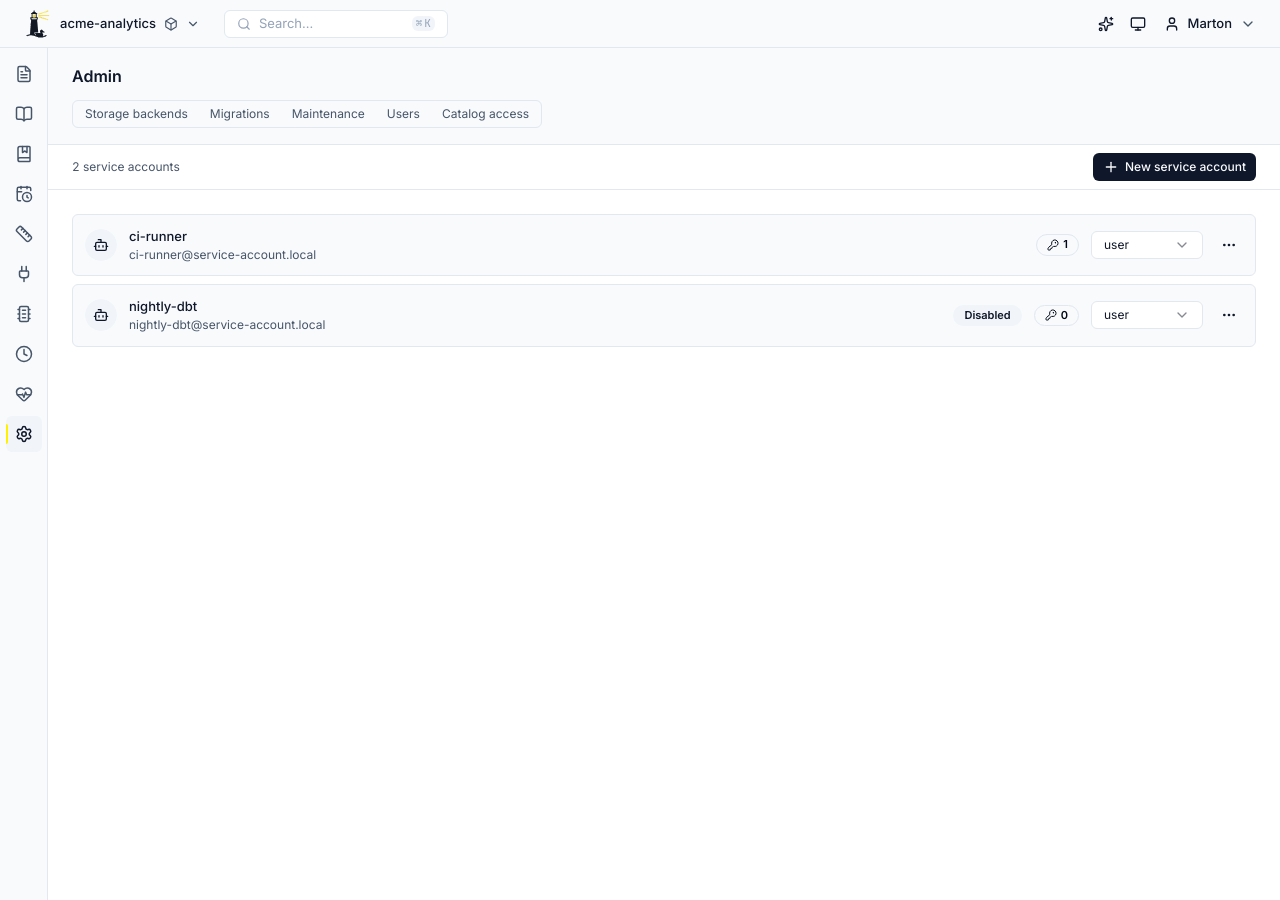
Test: ServiceAccountsPage › clears the revealed secret when the dialog is closed and reopened
Click the button named "actions for ci-runner".
click(1229, 245)  # box top-left (1215, 231), bottom-right (1243, 259)
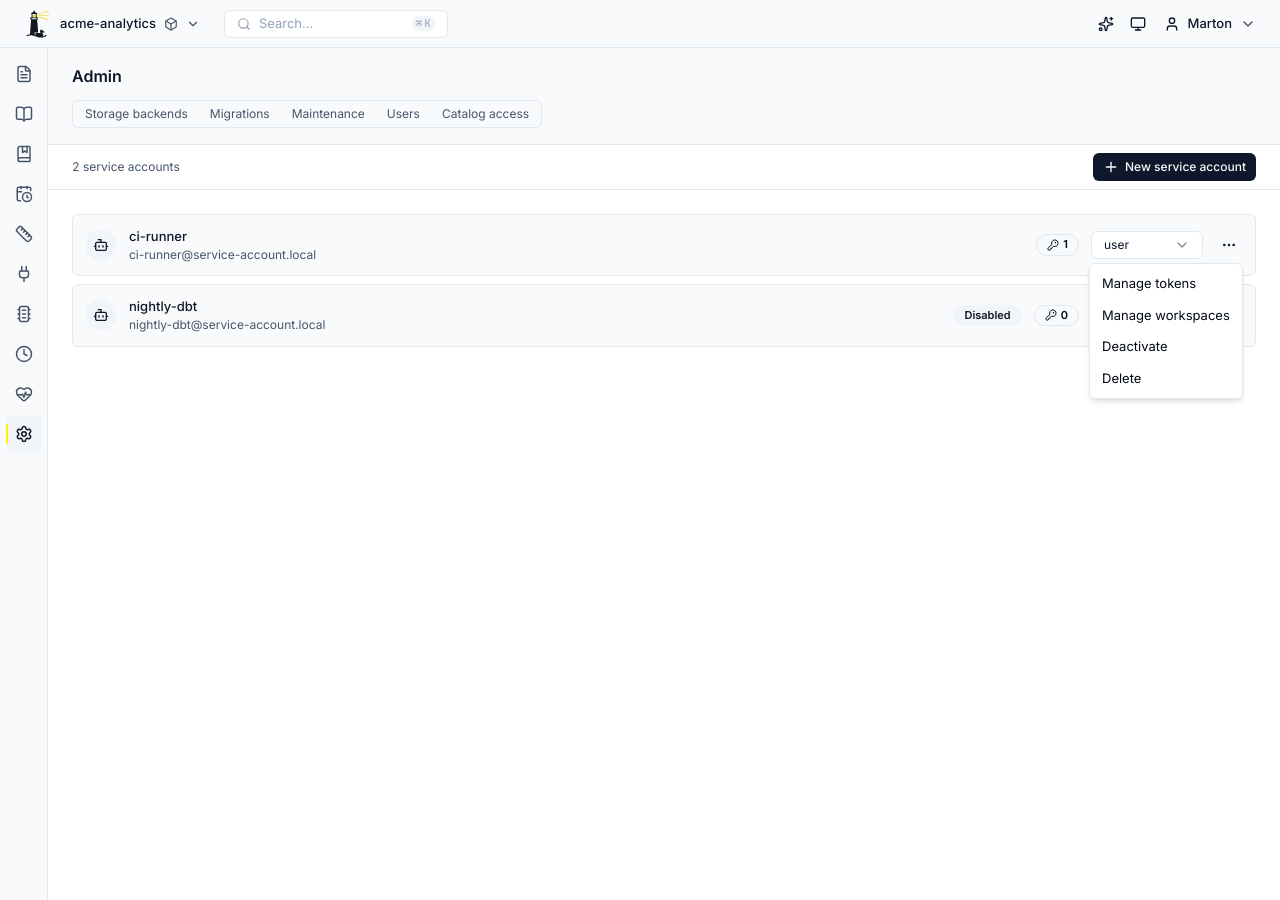
Click the menu item "Manage tokens".
click(1149, 283)  # box top-left (1102, 275), bottom-right (1196, 291)
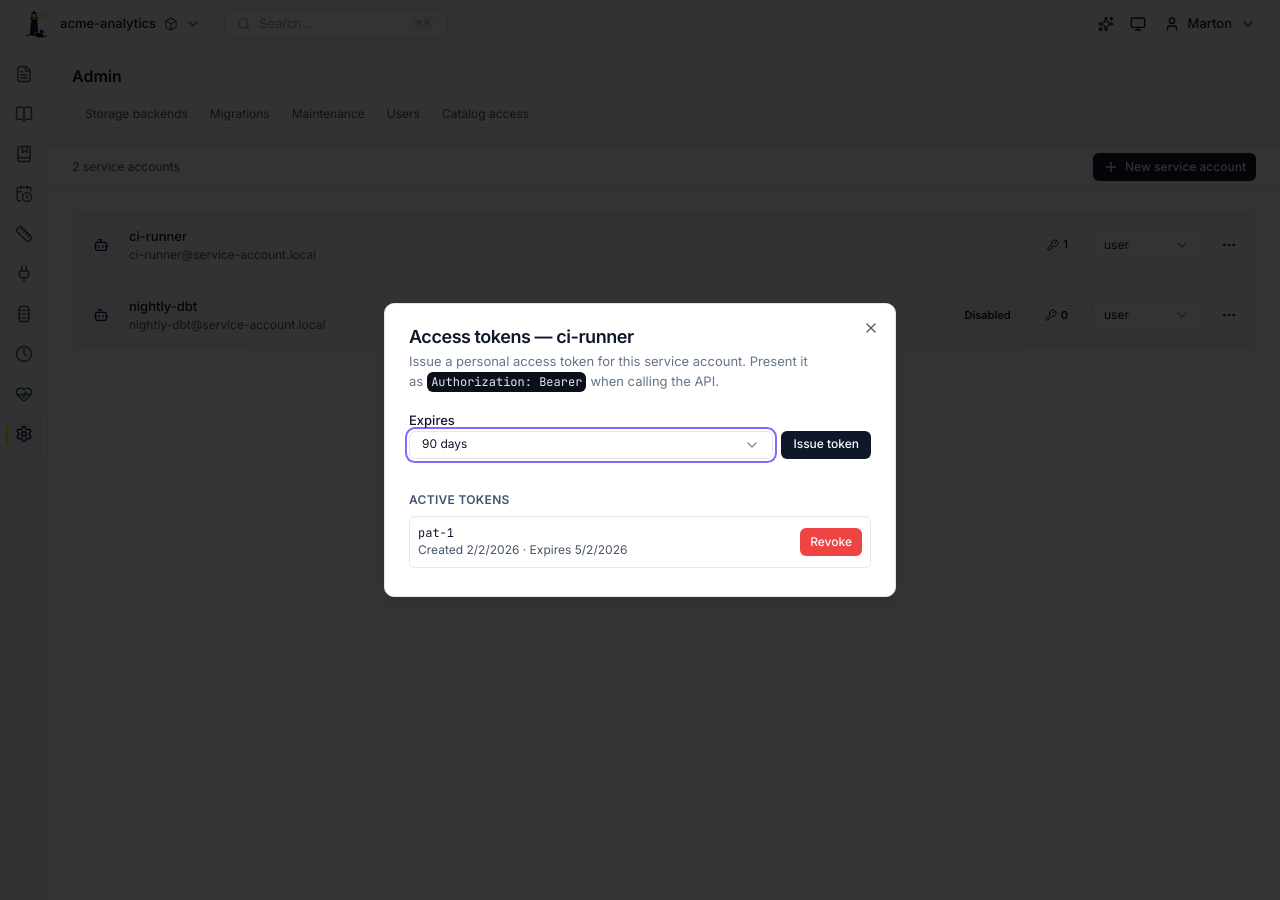
Click the button "Issue token".
click(826, 445)  # box top-left (781, 431), bottom-right (871, 459)
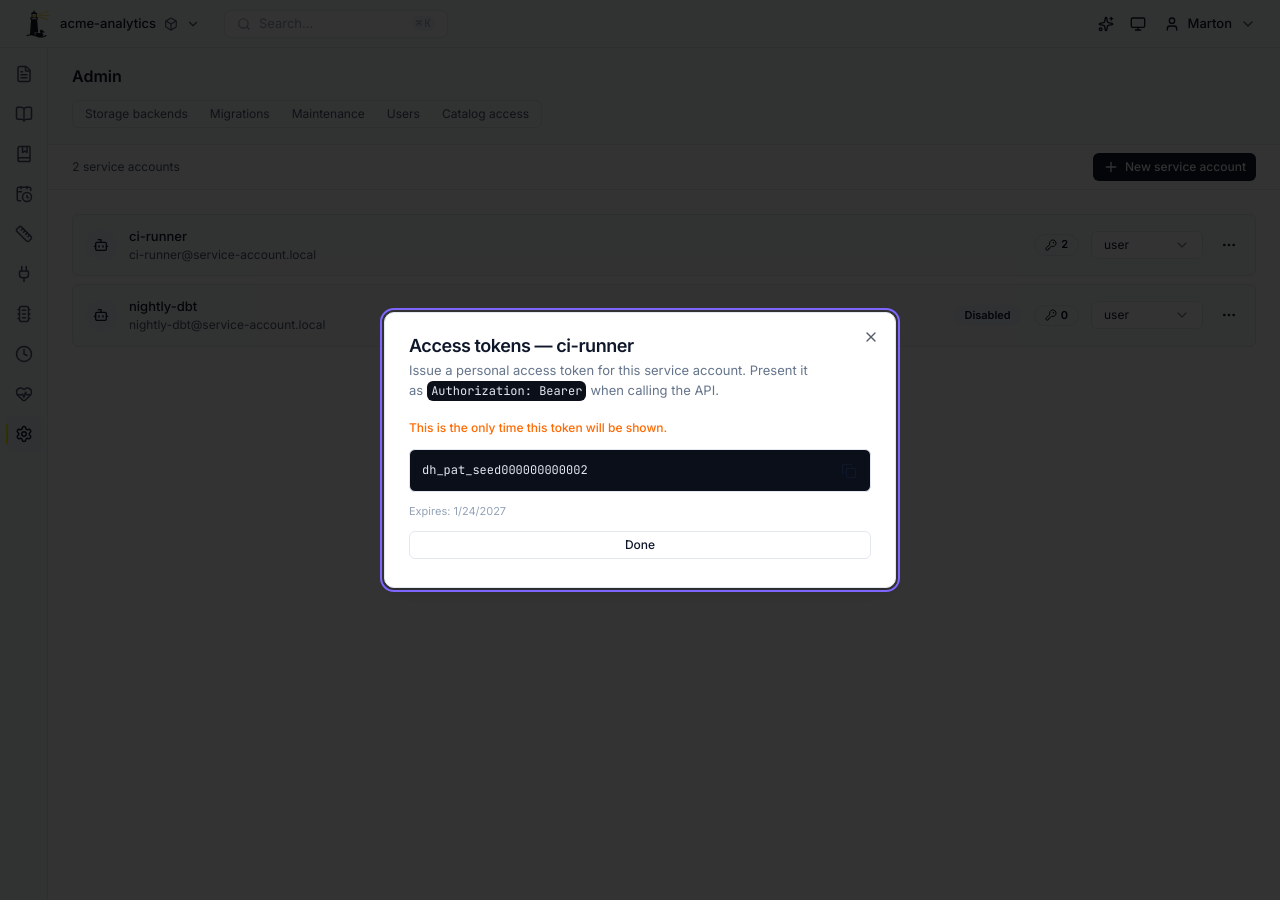
Expected: the text "dh_pat_seed000000000002" is shown, top-left (409, 449), bottom-right (871, 492)
Click the button "Done".
click(640, 545)  # box top-left (409, 531), bottom-right (871, 559)
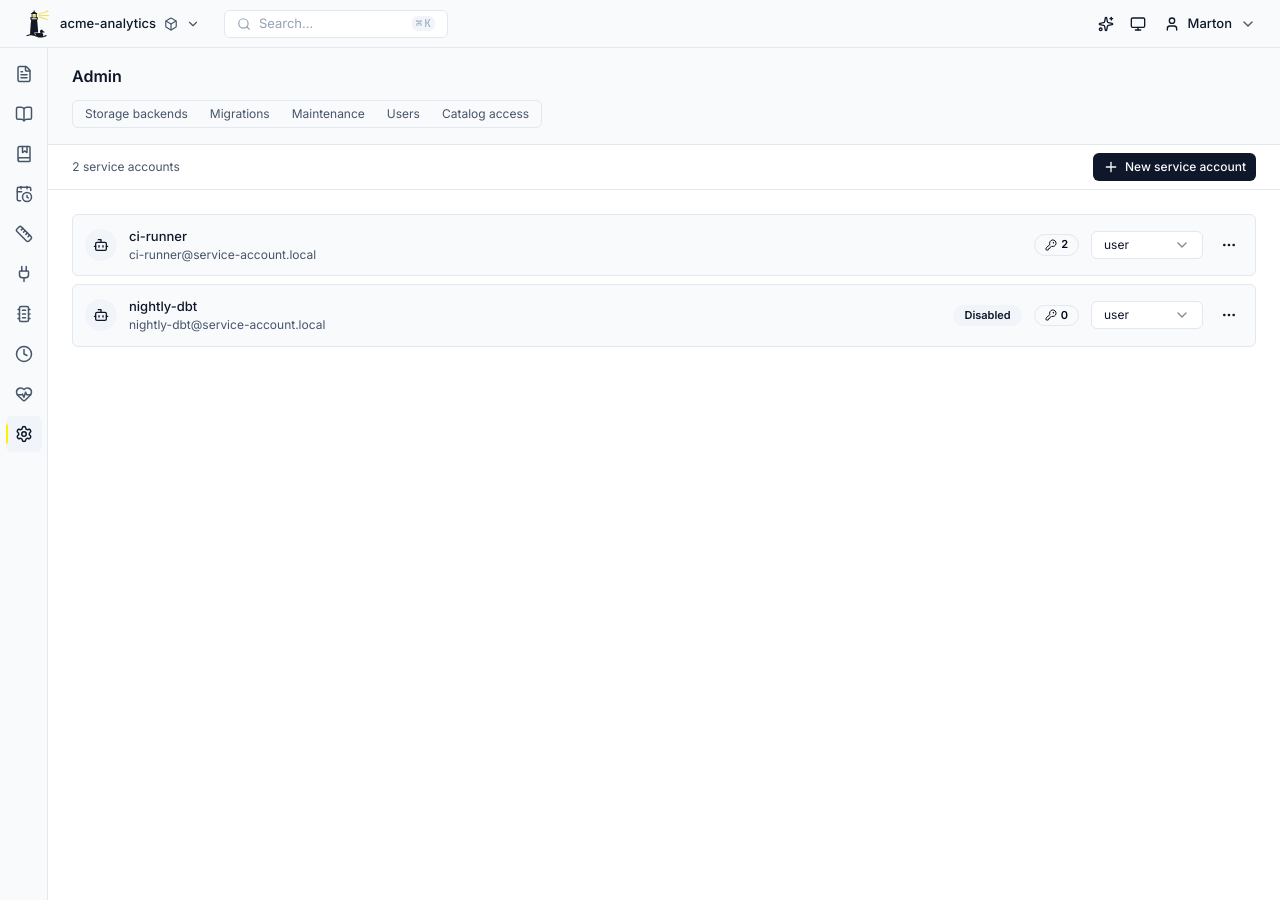
Click the button named "actions for ci-runner".
click(1229, 245)  # box top-left (1215, 231), bottom-right (1243, 259)
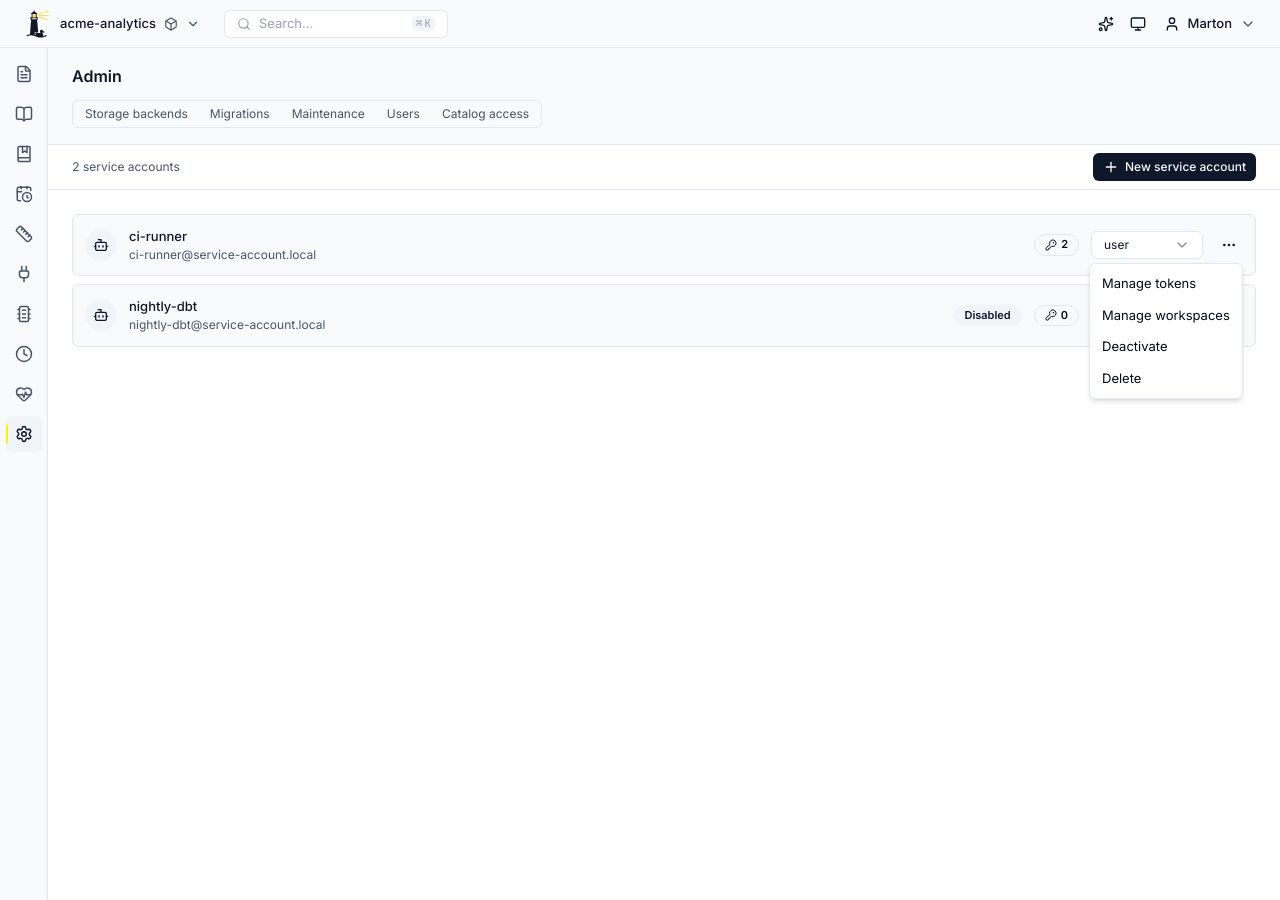
Click the menu item "Manage tokens".
click(1149, 283)  # box top-left (1102, 275), bottom-right (1196, 291)
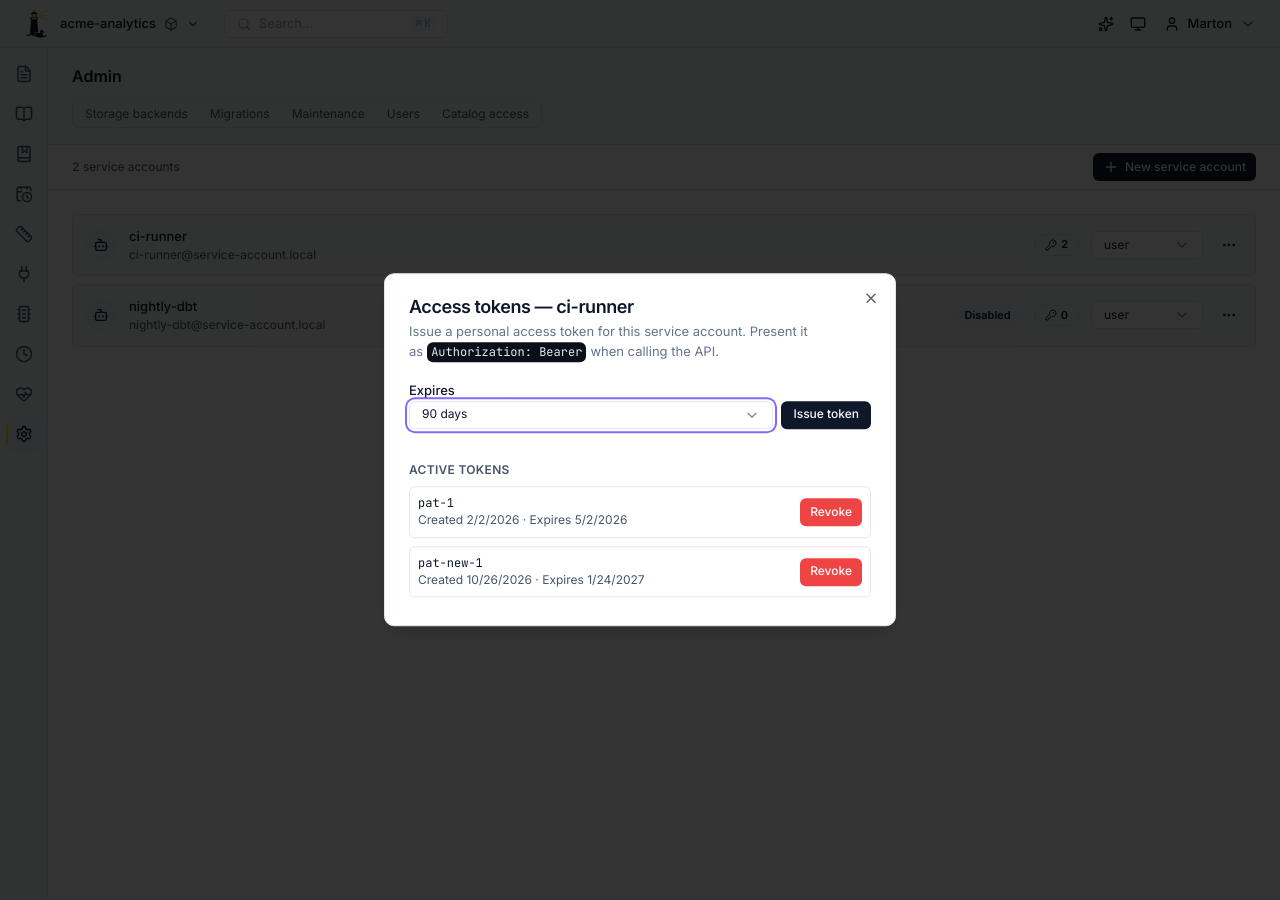
Expected: the button "Issue token" is shown, top-left (781, 401), bottom-right (871, 429)
